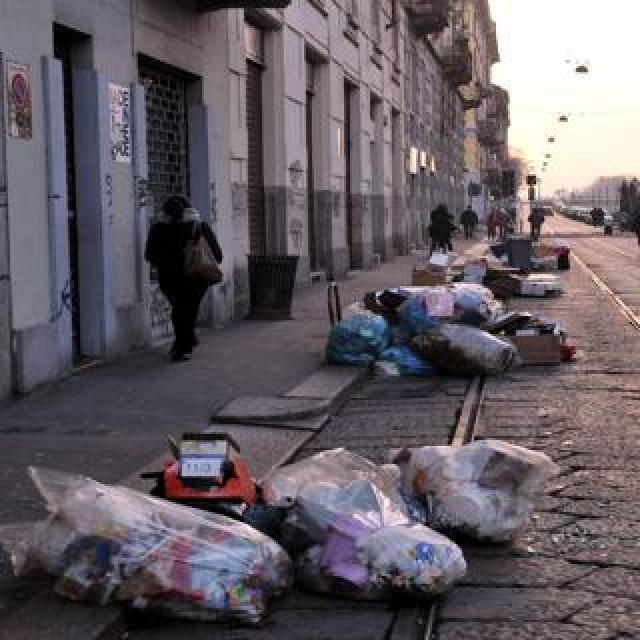high trash: (29, 440, 555, 623), (326, 252, 575, 376)
